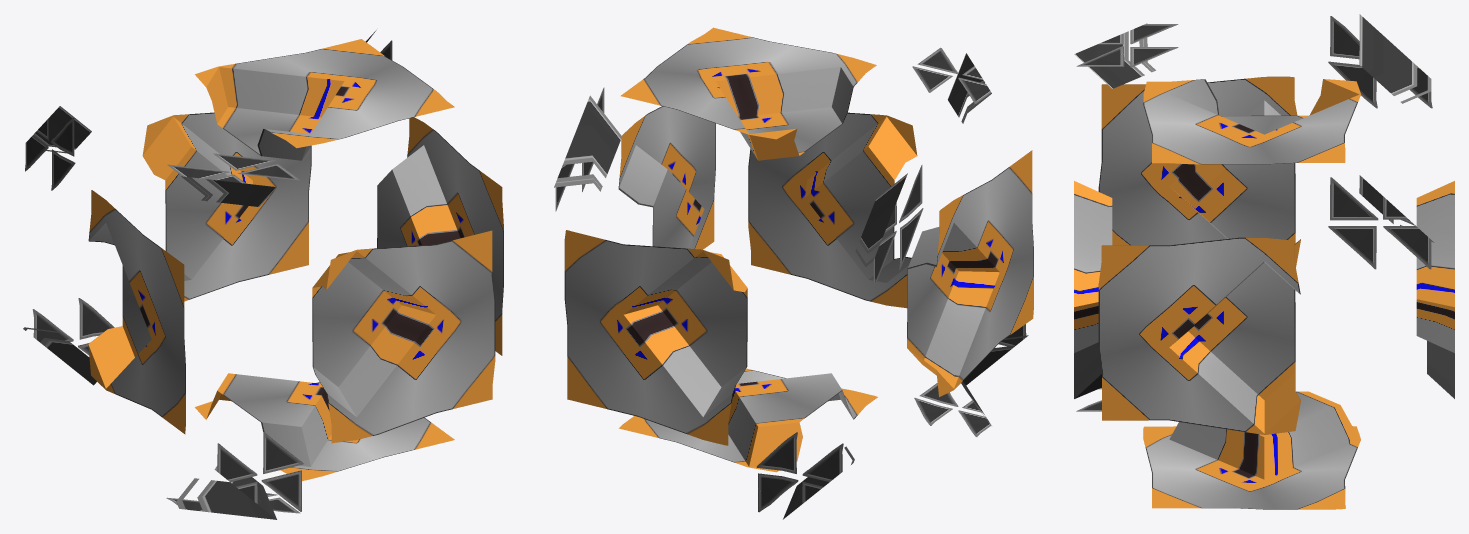
The model's file is hyper_item_sender.obj.
3 renders of one model, left to right at view 1: azimuth 30°, elevation 25°; view 2: azimuth 150°, elevation 25°; view 3: azimuth 270°, elevation 25°, orthographic. The views are drawn at different scales.
Visible parts, largest first — view 1: Cube; view 2: Cube; view 3: Cube.
Part boxes in pixels (bbox=[...]): Cube: bbox=[23, 30, 503, 519]; Cube: bbox=[554, 27, 1033, 519]; Cube: bbox=[1074, 14, 1454, 509].
Size of the model in its own units: 1 by 1 by 1.
